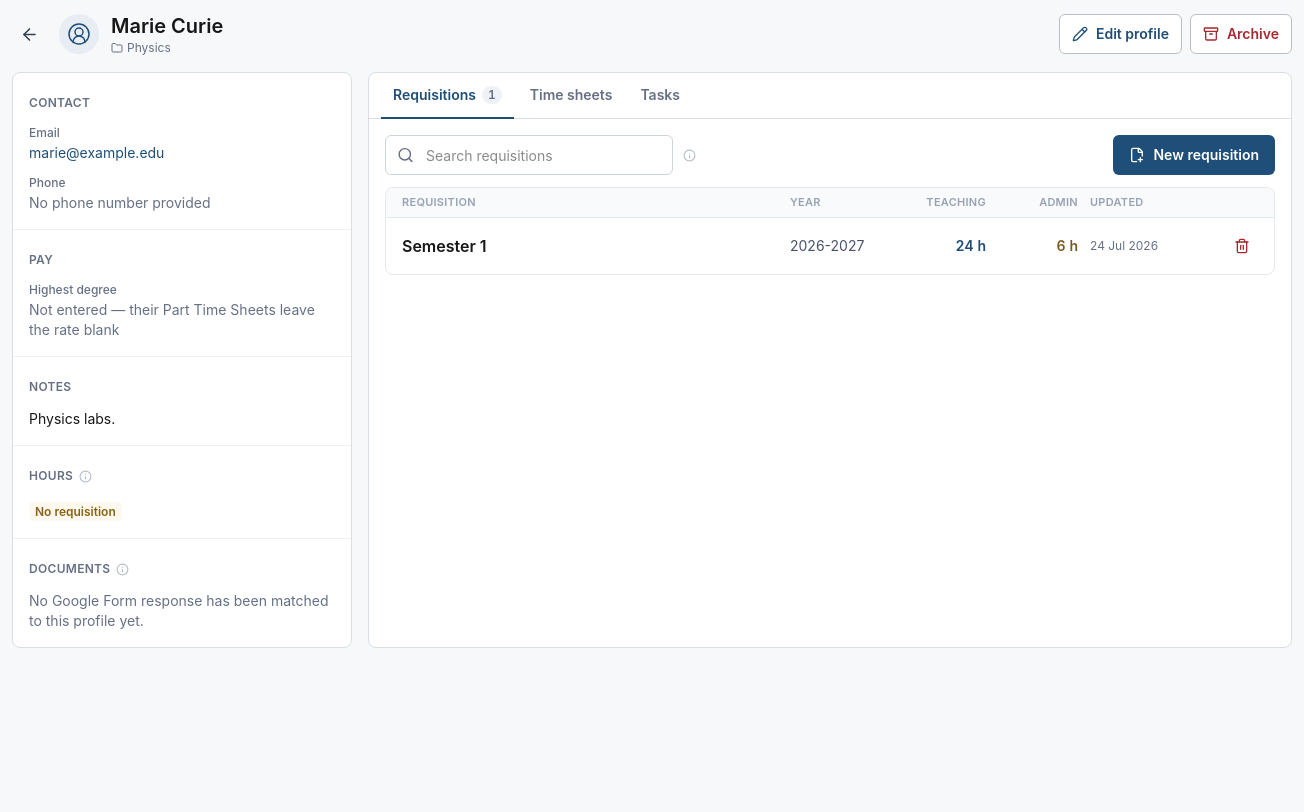
Test: a teacher's profile › switches between the requisitions and the time sheets
Check: the search field labelled "Search requisitions" is shown, box [385,135,673,175]
Click the tab "Time sheets": x=571, y=96 [518,73,624,119]
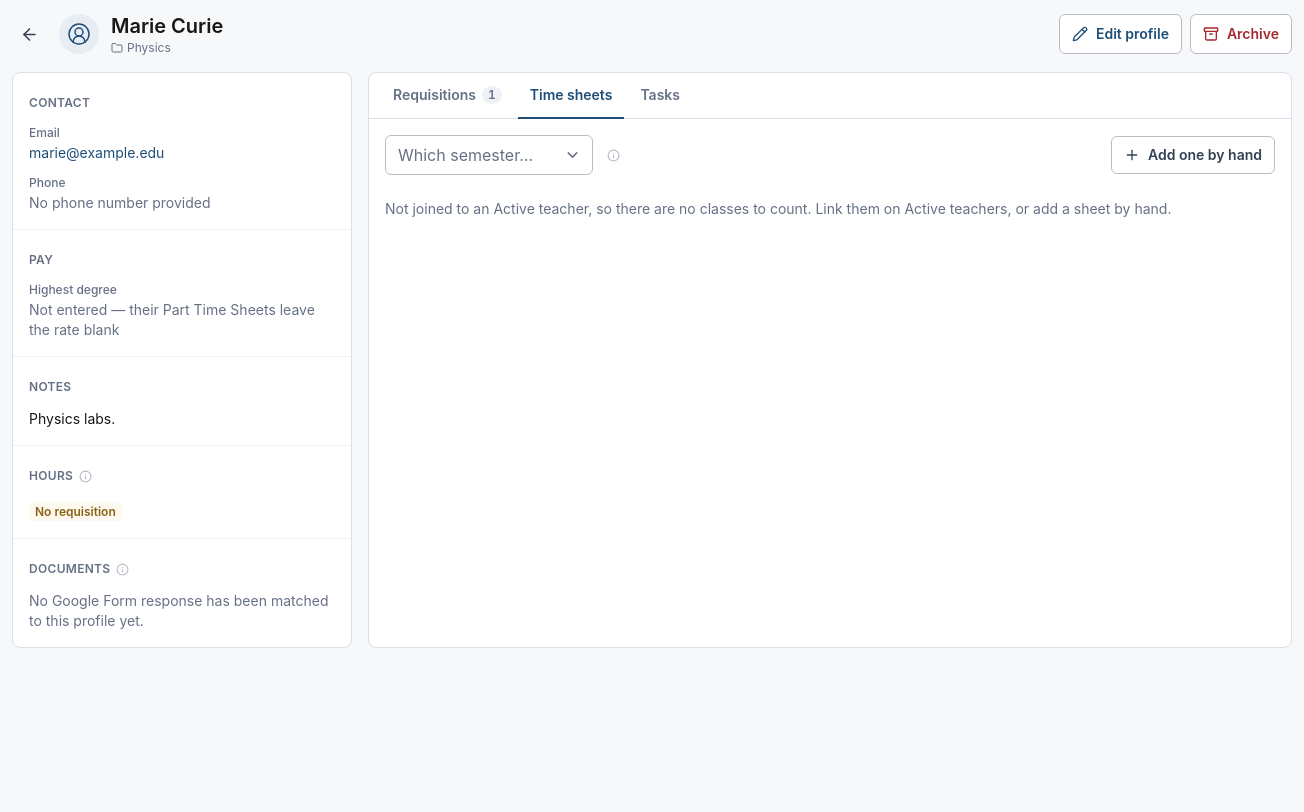
Check: the search field labelled "Search requisitions" is gone
Check: the dropdown named "Semester for the hours" is shown, box [385,135,593,175]
